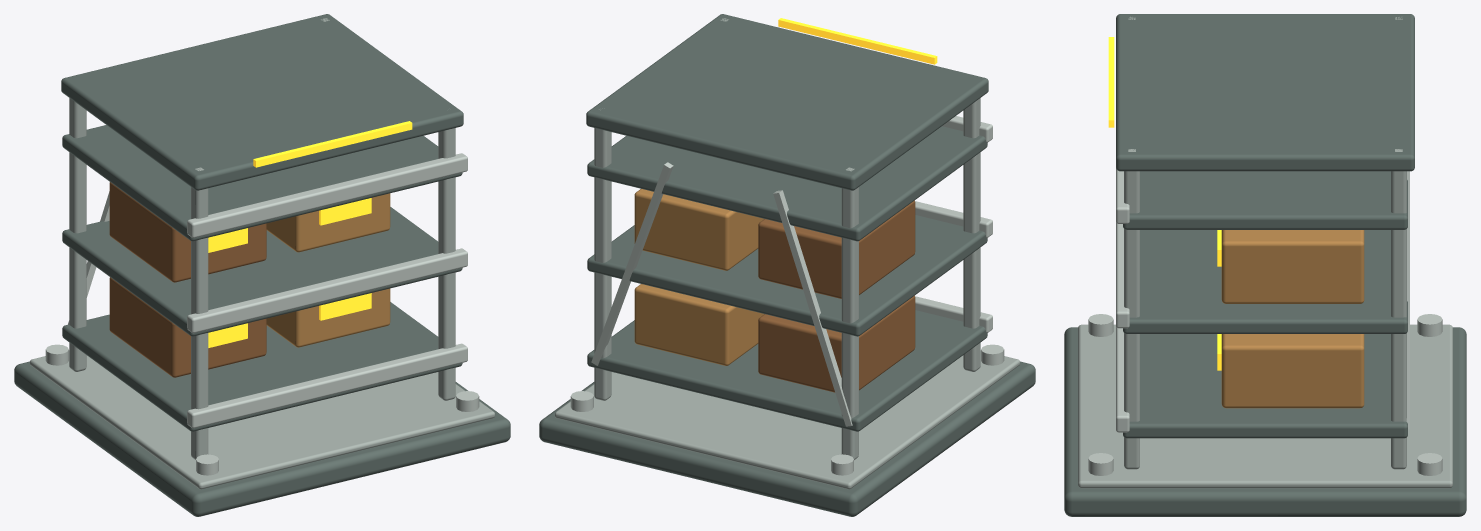
File: pallet_buffer_detail.glb
3 views of the same model, side by side, from view 1: azimuth 30°, elevation 25°; view 2: azimuth 150°, elevation 25°; view 3: azimuth 270°, elevation 25° (orthographic). The views are drawn at different scales.
Parts seen in each view (by area): view 1: rack_header, base_deck, rack_shelf_0.36, rack_shelf_0.86, base_lower, rack_shelf_1.36, crate_-0.34_1.05, crate_-0.34_0.55, rack_front_beam_0.86, rack_front_beam_1.36, rack_front_beam_0.36, rack_post_0.68_0.58 (+9 smaller); view 2: rack_header, base_deck, rack_shelf_1.36, rack_shelf_0.36, base_lower, rack_shelf_0.86, crate_-0.34_0.55, crate_-0.34_1.05, crate_0.34_0.55, crate_0.34_1.05, rack_post_-0.68_-0.58, rack_post_0.68_-0.58 (+6 smaller); view 3: rack_header, base_deck, rack_shelf_0.36, base_lower, rack_shelf_0.86, rack_shelf_1.36, crate_0.34_0.55, crate_0.34_1.05, rack_post_0.68_-0.58, rack_post_0.68_0.58, rack_front_beam_0.36, rack_front_beam_0.86 (+7 smaller).
Part boxes in pixels (left/top/right/bottom): rack_header: left=61, top=14, right=463, bottom=190; base_deck: left=30, top=350, right=494, bottom=489; rack_shelf_0.36: left=62, top=302, right=462, bottom=431; rack_shelf_0.86: left=62, top=207, right=462, bottom=336; base_lower: left=14, top=361, right=510, bottom=516; rack_shelf_1.36: left=62, top=125, right=462, bottom=241; crate_-0.34_1.05: left=109, top=182, right=266, bottom=282; crate_-0.34_0.55: left=109, top=277, right=266, bottom=377; rack_front_beam_0.86: left=187, top=248, right=467, bottom=333; rack_front_beam_1.36: left=187, top=153, right=467, bottom=237; rack_front_beam_0.36: left=187, top=343, right=467, bottom=428; rack_post_0.68_0.58: left=438, top=128, right=455, bottom=400; rack_header: left=586, top=14, right=988, bottom=190; base_deck: left=555, top=350, right=1019, bottom=489; rack_shelf_1.36: left=587, top=126, right=987, bottom=241; rack_shelf_0.36: left=587, top=310, right=987, bottom=431; base_lower: left=539, top=361, right=1035, bottom=516; rack_shelf_0.86: left=587, top=215, right=987, bottom=336; crate_-0.34_0.55: left=758, top=295, right=915, bottom=392; crate_-0.34_1.05: left=758, top=200, right=915, bottom=298; crate_0.34_0.55: left=634, top=284, right=764, bottom=365; crate_0.34_1.05: left=634, top=189, right=763, bottom=270; rack_post_-0.68_-0.58: left=841, top=167, right=858, bottom=459; rack_post_0.68_-0.58: left=594, top=108, right=611, bottom=400; rack_header: left=1116, top=14, right=1414, bottom=171; base_deck: left=1078, top=324, right=1452, bottom=488; rack_shelf_0.36: left=1123, top=334, right=1407, bottom=438; base_lower: left=1064, top=327, right=1466, bottom=516; rack_shelf_0.86: left=1123, top=230, right=1407, bottom=333; rack_shelf_1.36: left=1123, top=171, right=1407, bottom=229; crate_0.34_0.55: left=1221, top=334, right=1364, bottom=408; crate_0.34_1.05: left=1221, top=230, right=1364, bottom=303; rack_post_0.68_-0.58: left=1391, top=149, right=1406, bottom=469; rack_post_0.68_0.58: left=1124, top=149, right=1139, bottom=469; rack_front_beam_0.36: left=1116, top=326, right=1129, bottom=432; rack_front_beam_0.86: left=1116, top=222, right=1129, bottom=328.
Bounding box in the file's own units: 1.75 × 1.71 × 1.75.
